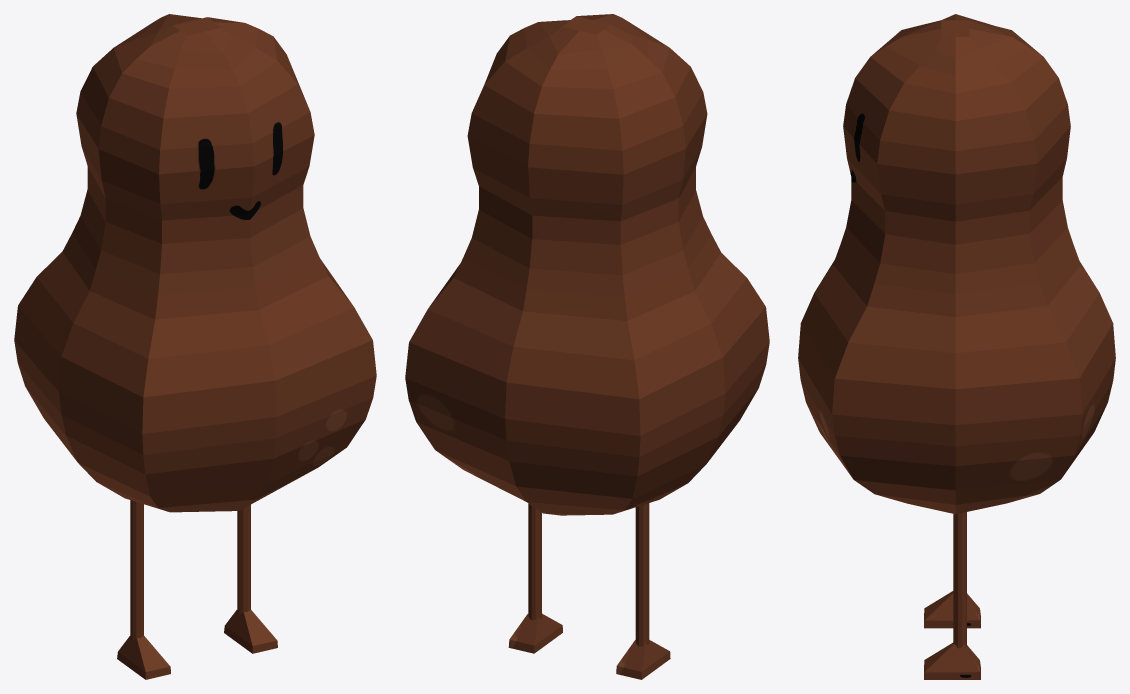
File: inimigo.fbx
3 renders of one model, left to right at view 1: azimuth 30°, elevation 25°; view 2: azimuth 150°, elevation 25°; view 3: azimuth 270°, elevation 25°, orthographic.
Visible parts, largest first — view 1: Cube, Cube.003, Cube.002; view 2: Cube, Cube.003, Cube.002; view 3: Cube, Cube.002, Cube.003.
Boxes of the visible parts, <box> form: Cube: <box>14,14,376,512</box>; Cube.003: <box>117,500,170,679</box>; Cube.002: <box>224,504,277,653</box>; Cube: <box>405,14,769,515</box>; Cube.003: <box>616,503,670,679</box>; Cube.002: <box>508,503,562,653</box>; Cube: <box>798,14,1115,514</box>; Cube.002: <box>924,512,980,679</box>; Cube.003: <box>924,591,980,628</box>.
Bounding box in the file's own units: 157 × 338 × 157.
3 materials, 3 textured.
